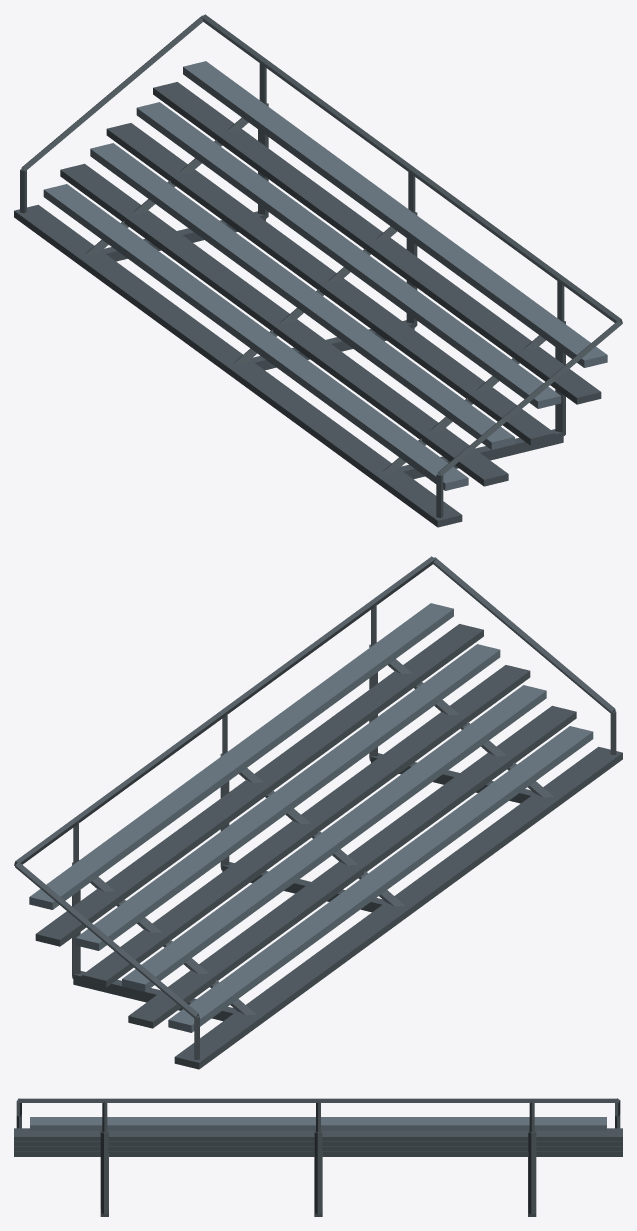
File: grandstand.glb
3 renders of one model, top to bottom at view 1: azimuth 30°, elevation 25°; view 2: azimuth 150°, elevation 25°; view 3: azimuth 270°, elevation 25°, orthographic. The views are drawn at different scales.
Parts seen in each view (by area): view 1: grandstand; view 2: grandstand; view 3: grandstand.
Part boxes in pixels (box(x1,y1,x2,y2)): grandstand: box(14, 14, 622, 527); grandstand: box(14, 556, 622, 1069); grandstand: box(14, 1098, 622, 1216).
Size of the model in its own units: 7.41 by 6.11 by 28.5.
